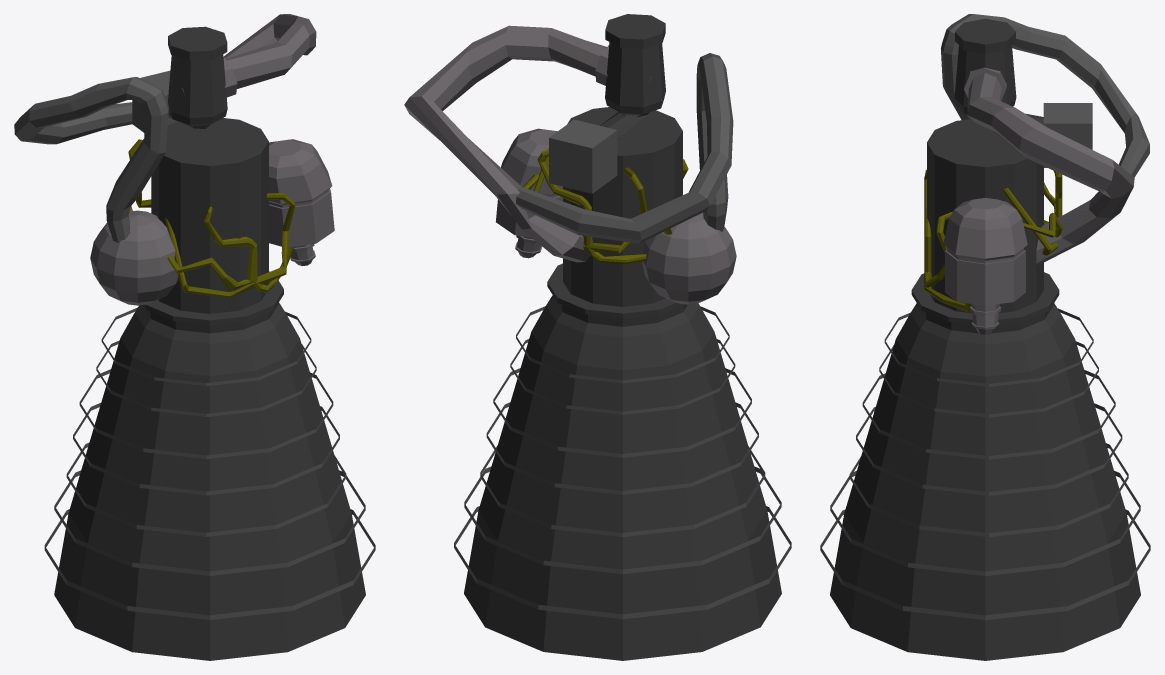
3 renders of one model, left to right at view 1: azimuth 30°, elevation 25°; view 2: azimuth 150°, elevation 25°; view 3: azimuth 270°, elevation 25°, orthographic. The views are drawn at different scales.
Parts seen in each view (by area): view 1: Cylinder.013; view 2: Cylinder.013; view 3: Cylinder.013.
Part boxes in pixels (x1,y1,x2,y2): Cylinder.013: (14,14,375,660); Cylinder.013: (404,14,791,660); Cylinder.013: (820,14,1150,660).
Bounding box in the file's own units: 1.79 × 3.24 × 1.74.
